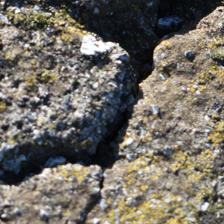Crack: (25, 21, 93, 131), (0, 112, 79, 184), (27, 81, 88, 149), (95, 79, 128, 114)
